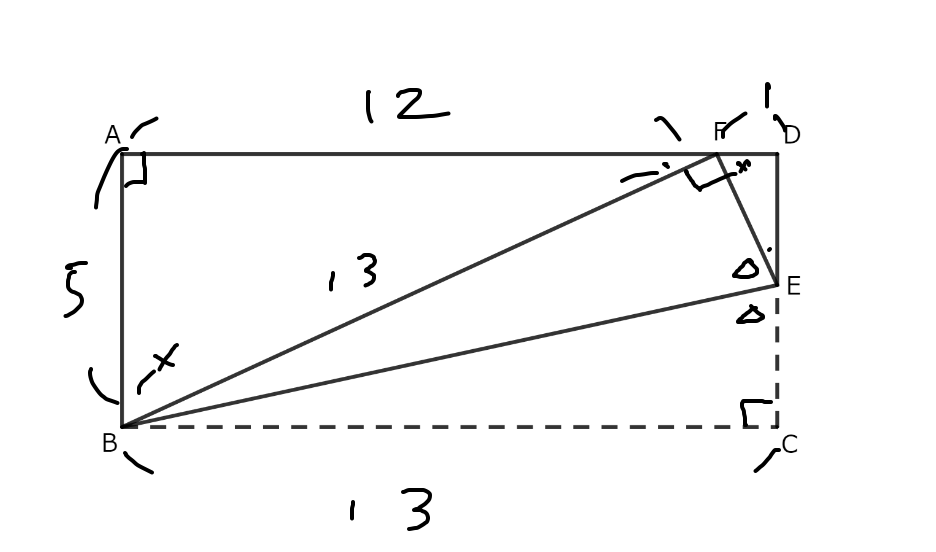Angle_Right: (117, 147, 159, 192), (684, 161, 739, 194), (736, 392, 773, 427)
